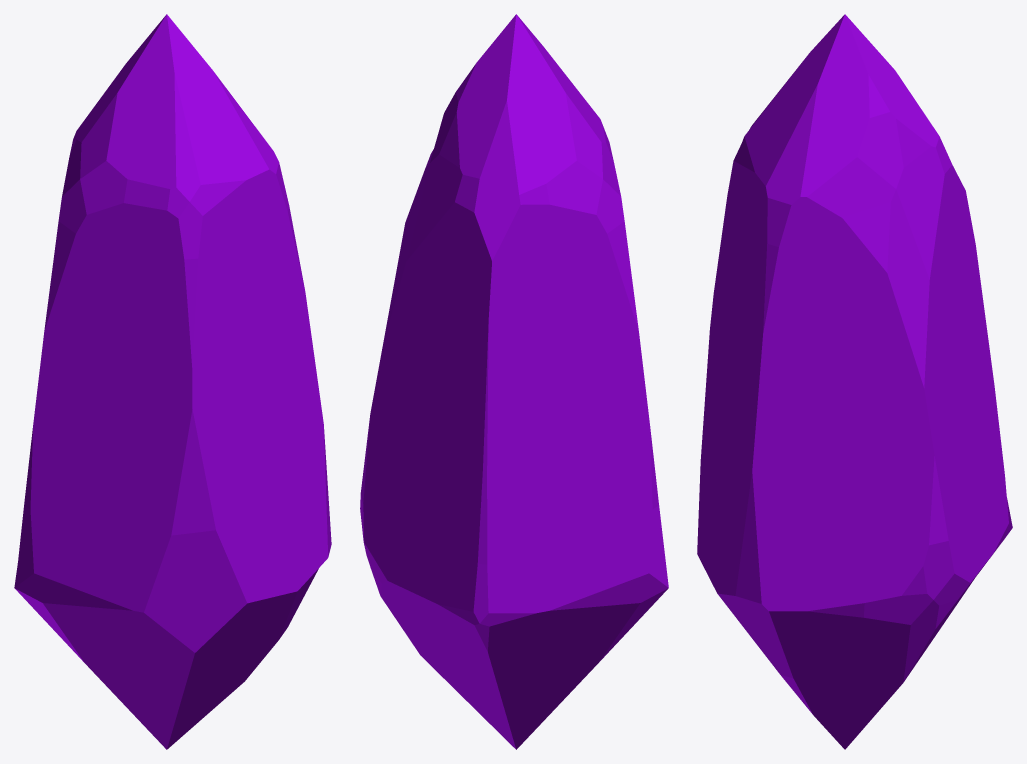
The model's file is kristal_01.fbx.
3 views of the same model, side by side, from view 1: azimuth 30°, elevation 25°; view 2: azimuth 150°, elevation 25°; view 3: azimuth 270°, elevation 25° (orthographic).
Visible parts, largest first — view 1: kristal_01; view 2: kristal_01; view 3: kristal_01.
Part boxes in pixels (x1,y1,x2,y2): kristal_01: (14, 14, 331, 749); kristal_01: (360, 14, 668, 749); kristal_01: (697, 14, 1012, 749).
Size of the model in its own units: 0.4139 by 0.4095 by 1.05.
